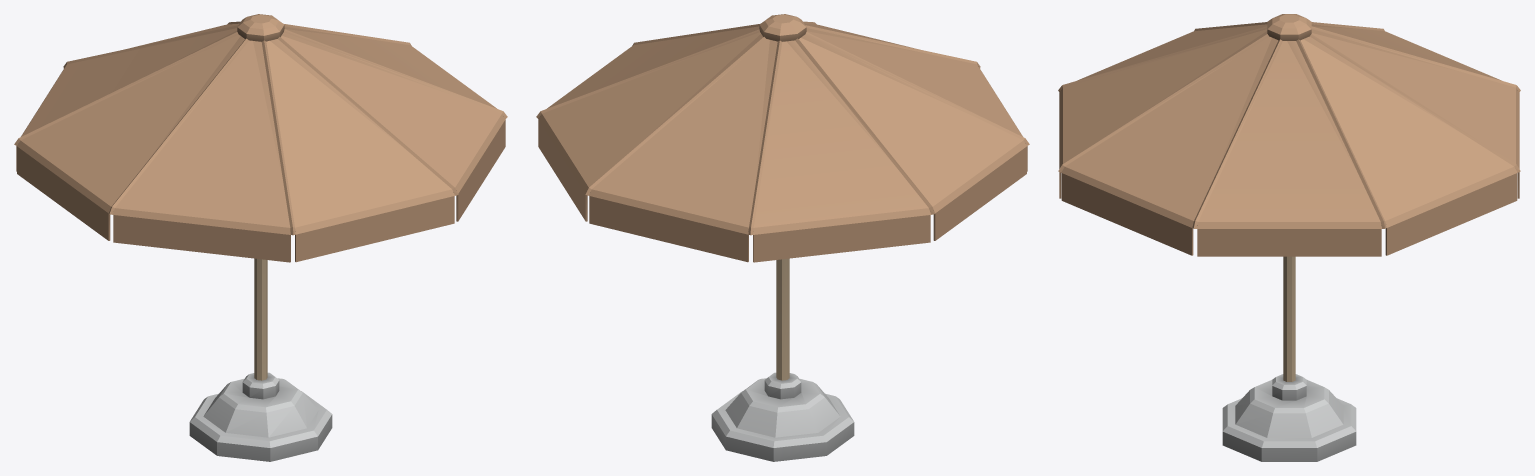
The model's file is parasol.glb.
3 renders of one model, left to right at view 1: azimuth 30°, elevation 25°; view 2: azimuth 150°, elevation 25°; view 3: azimuth 270°, elevation 25°, orthographic.
Parts seen in each view (by area): view 1: parasol; view 2: parasol; view 3: parasol.
Boxes of the visible parts, bbox=[...] form: parasol: bbox=[14, 14, 507, 461]; parasol: bbox=[536, 14, 1029, 461]; parasol: bbox=[1058, 14, 1520, 461].
Size of the model in its own units: 2.72 by 2.69 by 2.72.
